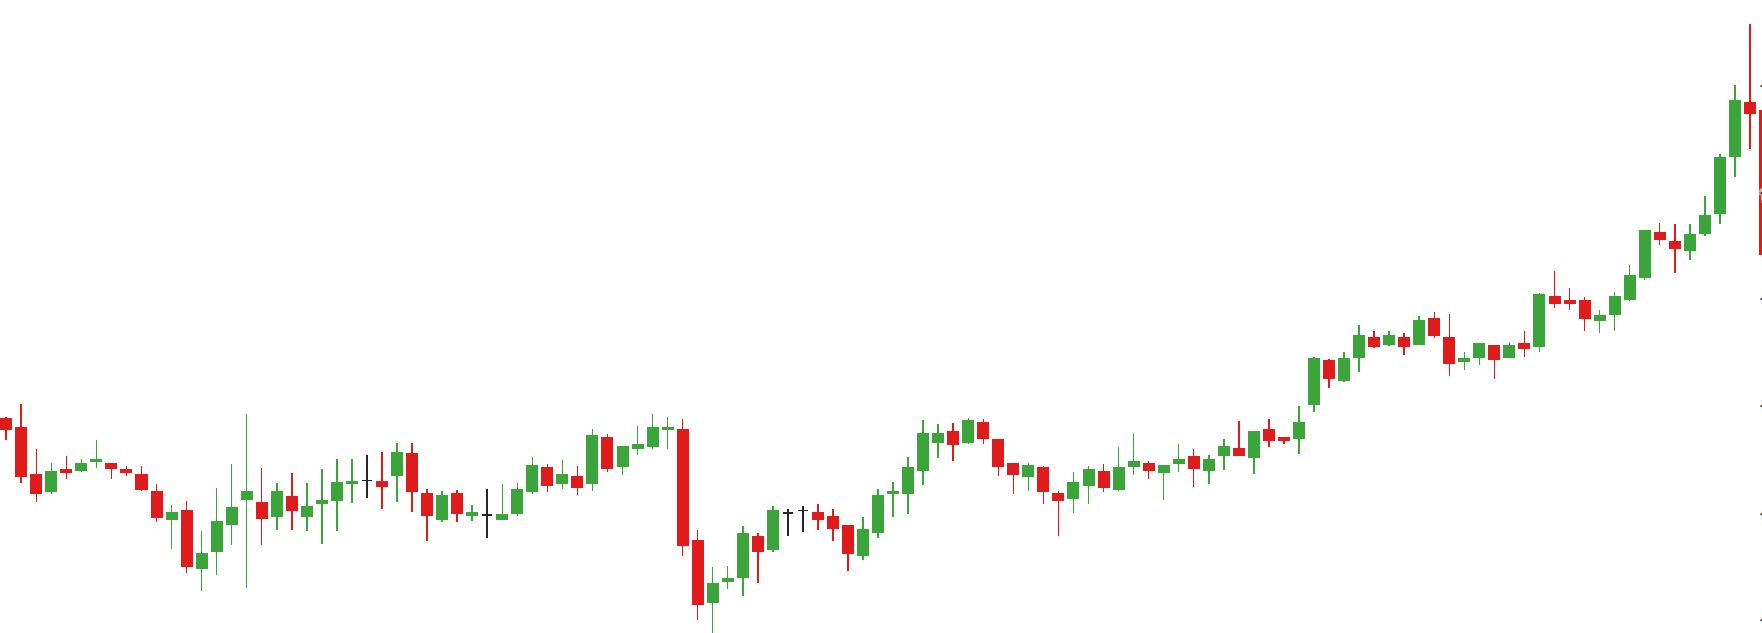buy: (194, 477, 721, 629)
